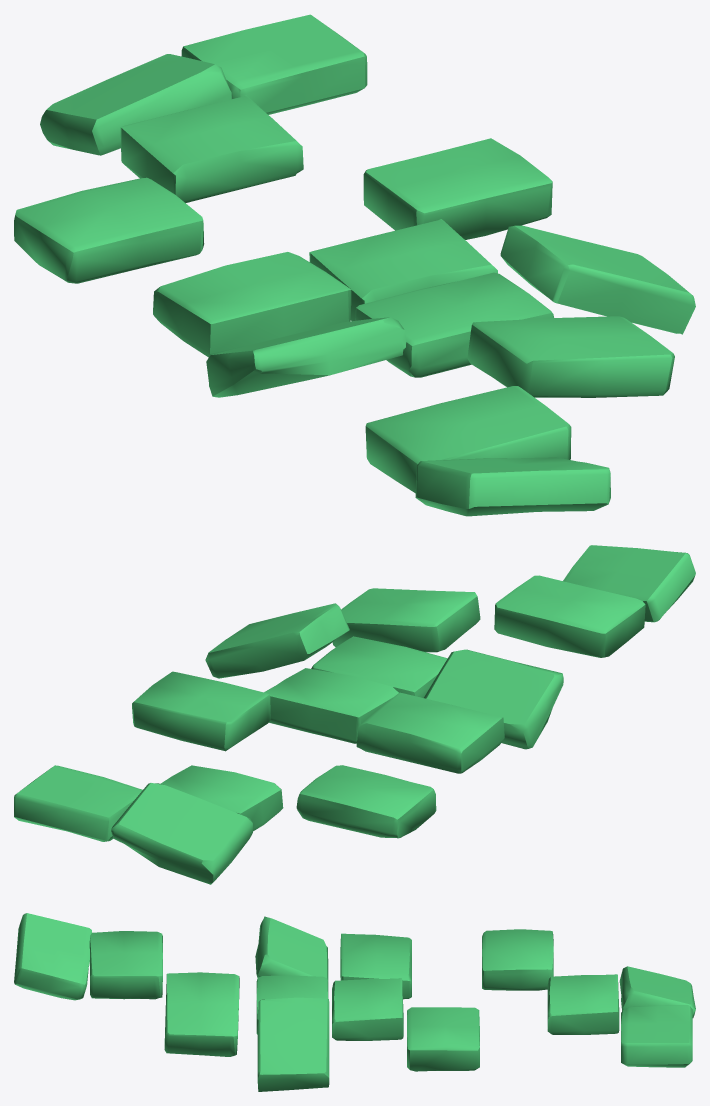
File: dalle_ground_path01.fbx
3 renders of one model, top to bottom at view 1: azimuth 30°, elevation 25°; view 2: azimuth 150°, elevation 25°; view 3: azimuth 270°, elevation 25°, orthographic. The views are drawn at different scales.
Parts seen in each view (by area): view 1: dalle_ground_path01; view 2: dalle_ground_path01; view 3: dalle_ground_path01.
Part boxes in pixels (x1,y1,x2,y2): dalle_ground_path01: (14, 14, 695, 516); dalle_ground_path01: (14, 545, 695, 884); dalle_ground_path01: (14, 913, 695, 1091).
Size of the model in its own units: 2.81 by 0.5909 by 6.06.
